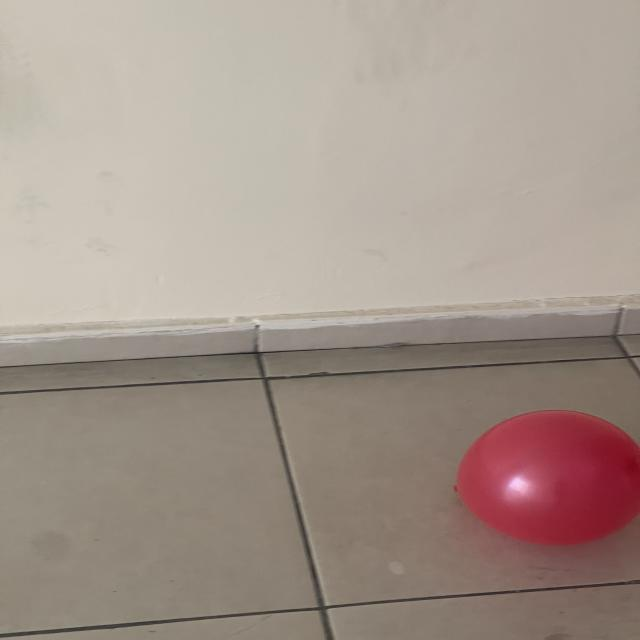balloon: (454, 410, 640, 546), (532, 464, 534, 465)
